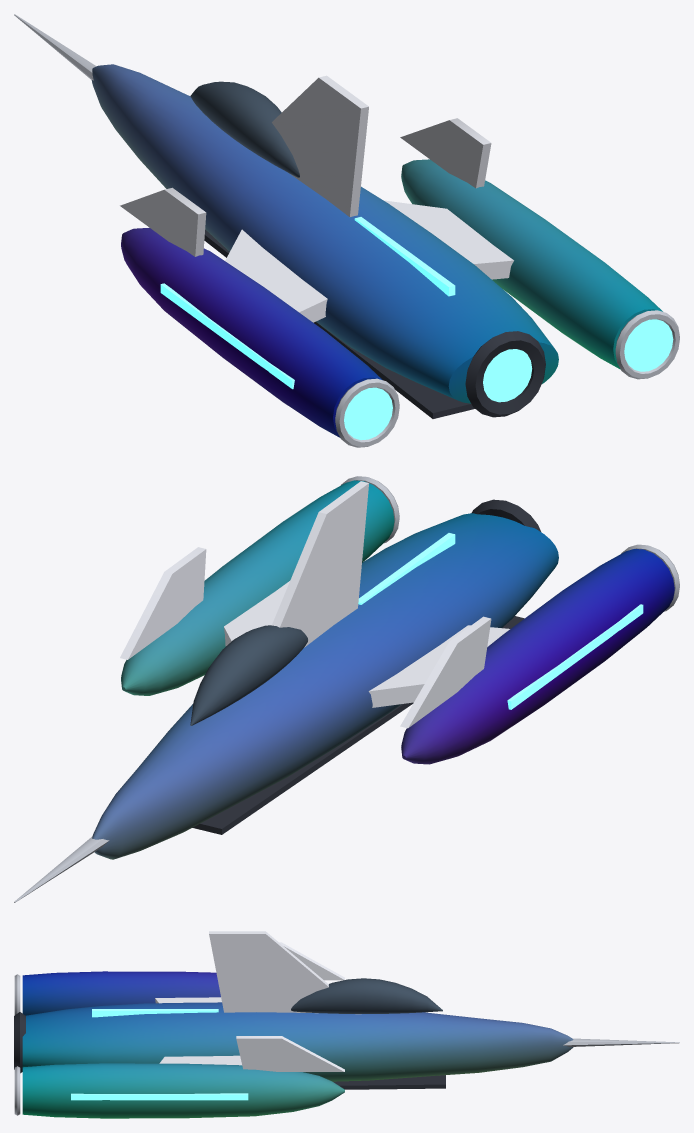
Rendered from arrow.glb.
3 views of the same model, one above another, from view 1: azimuth 30°, elevation 25°; view 2: azimuth 150°, elevation 25°; view 3: azimuth 270°, elevation 25° (orthographic). The views are drawn at different scales.
Visible parts, largest first — view 1: arrow_LOD0; view 2: arrow_LOD0; view 3: arrow_LOD0.
Boxes of the visible parts, x1,y1,x2,y2 form: arrow_LOD0: (14, 14, 679, 447); arrow_LOD0: (14, 476, 679, 902); arrow_LOD0: (14, 931, 679, 1118).
Size of what is drawn, in the model's own units: 2.16 by 1.26 by 5.27.
